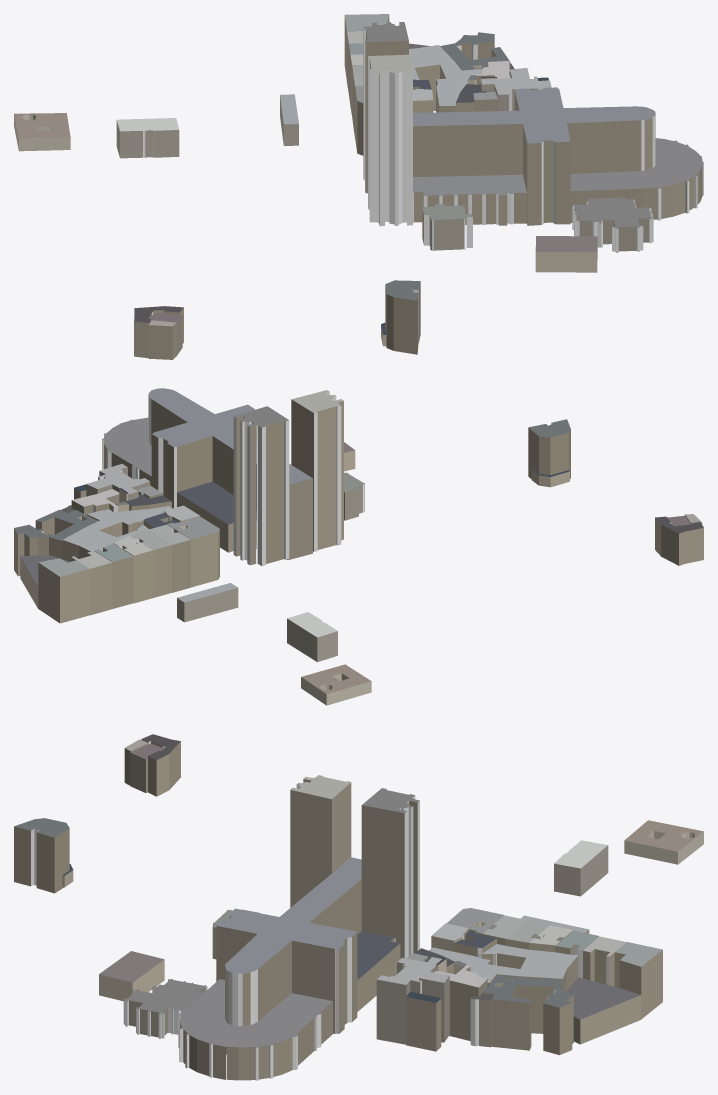
The picture shows the model from 3 angles, top to bottom: view 1: azimuth 30°, elevation 25°; view 2: azimuth 150°, elevation 25°; view 3: azimuth 270°, elevation 25°; orthographic projection. The views are drawn at different scales.
Visible parts, largest first — view 1: tuile; view 2: tuile; view 3: tuile.
Part boxes in pixels (box(x1,y1,x2,y2)): tuile: box(14, 14, 703, 359); tuile: box(14, 388, 703, 705); tuile: box(14, 734, 703, 1080).
Size of the model in its own units: 280 by 68.63 by 267.
